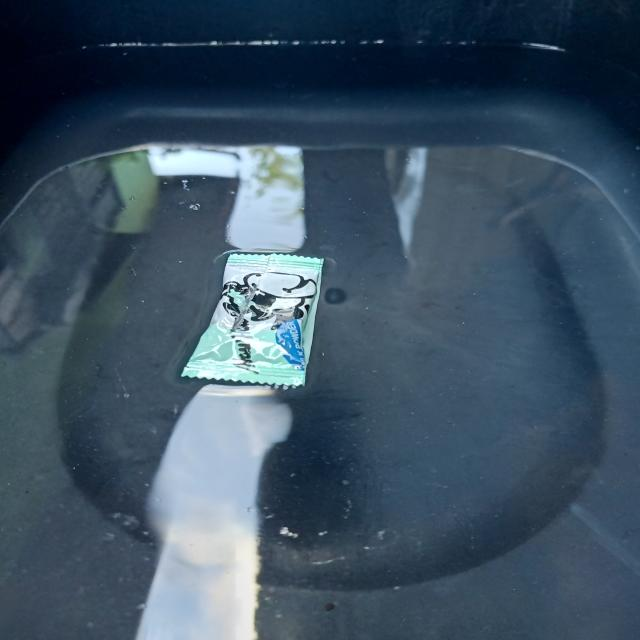Plastic Wrapper: (182, 251, 323, 387)
